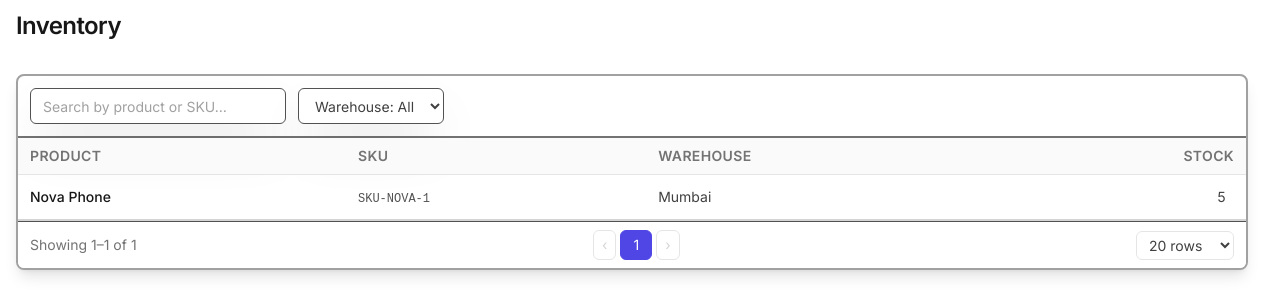
it: InventoryPage › edits the stock inline and persists the new value
The image size is (1265, 298).
Click the button "5".
click(1221, 197)  # box x1=1209 y1=183 x2=1234 y2=211
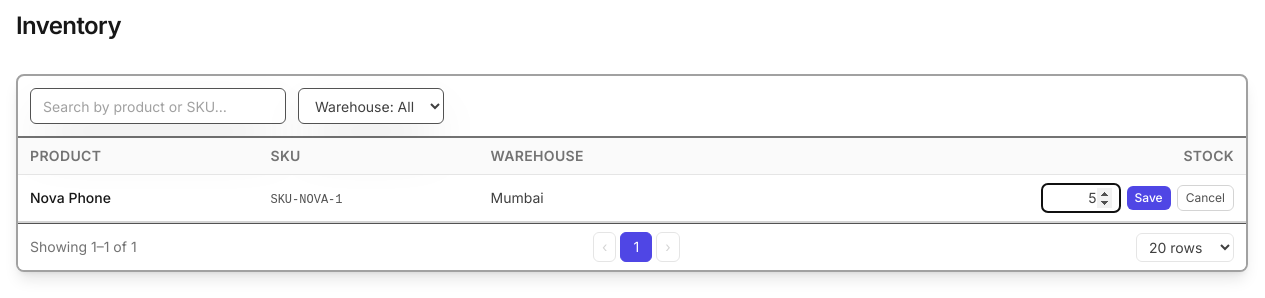
Replace the text in the number field named "Stock for" with "20" at point(1080, 198), box x1=1040 y1=183 x2=1120 y2=213
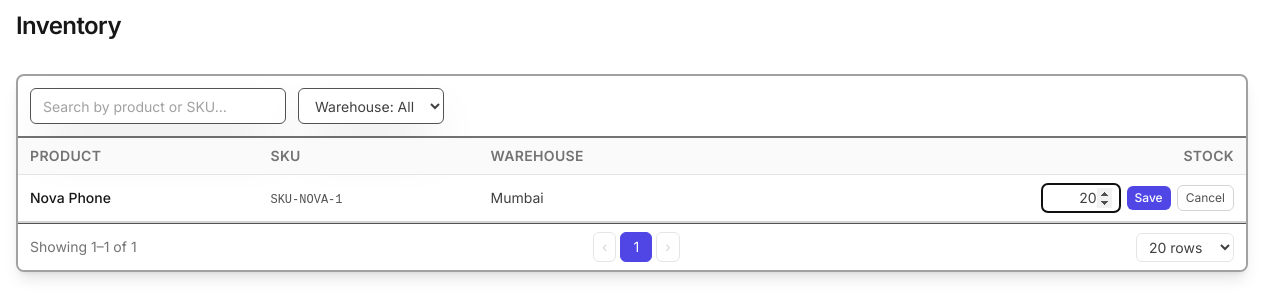
Click the button "Save".
click(1149, 198)  # box x1=1126 y1=186 x2=1171 y2=210
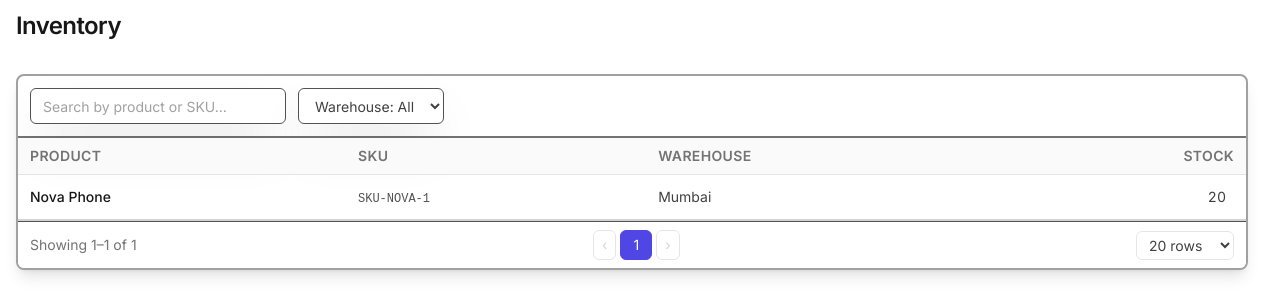
Now the button "20" is shown, box x1=1200 y1=183 x2=1234 y2=211
